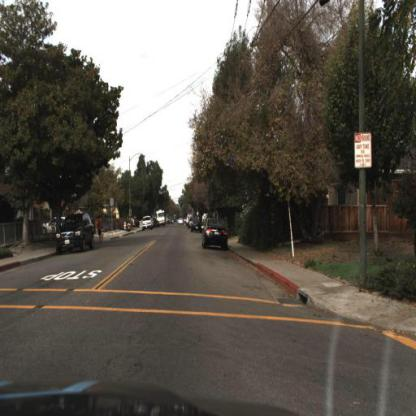car: (54, 209, 94, 255), (200, 214, 229, 251), (191, 214, 209, 237), (141, 214, 155, 232)
pedestrian: (96, 213, 105, 242), (125, 210, 135, 236)
